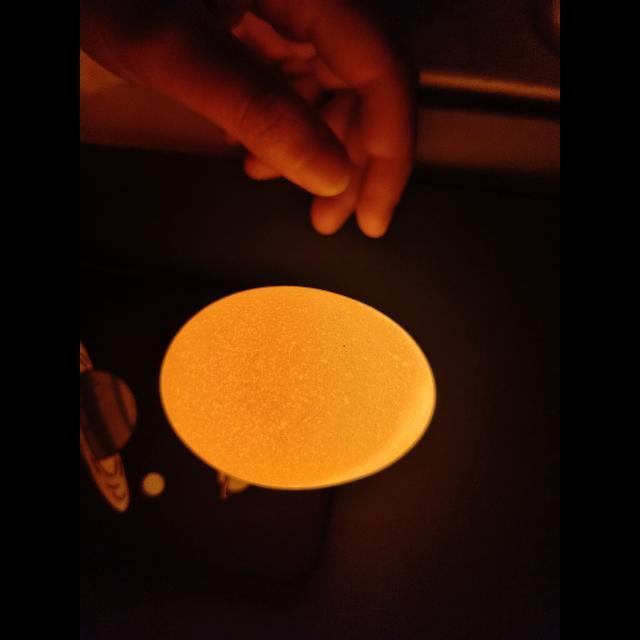AA - Premium: (160, 286, 435, 489)
